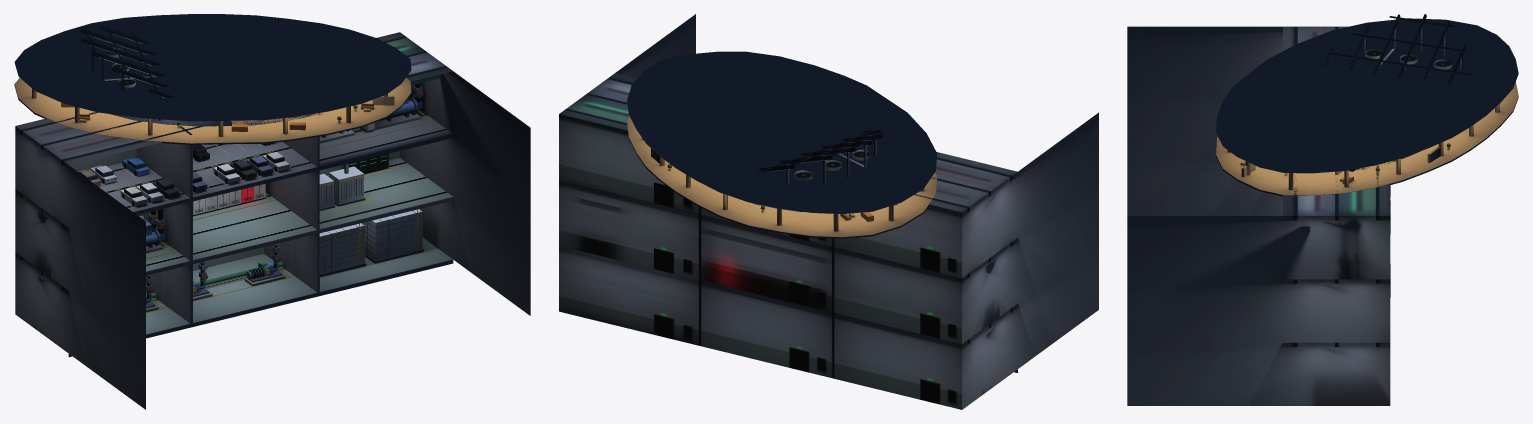
Rendered from tower_N.glb.
The picture shows the model from 3 angles, left to right: view 1: azimuth 30°, elevation 25°; view 2: azimuth 150°, elevation 25°; view 3: azimuth 270°, elevation 25°; orthographic projection. The views are drawn at different scales.
Parts seen in each view (by area): view 1: basement, lobby_v, basement_v, lobby, retail_v, roof_v, roof; view 2: basement, lobby_v, lobby, basement_v, retail_v, roof_v; view 3: basement, lobby_v, lobby, retail_v, roof_v, basement_v.
Part boxes in pixels (bbox=[...]): basement: bbox=[15, 32, 530, 409]; lobby_v: bbox=[14, 14, 411, 144]; basement_v: bbox=[21, 36, 453, 357]; lobby: bbox=[14, 78, 411, 143]; retail_v: bbox=[17, 23, 394, 131]; roof_v: bbox=[81, 26, 231, 126]; roof: bbox=[112, 114, 232, 126]; basement: bbox=[559, 14, 1098, 409]; lobby_v: bbox=[627, 51, 937, 238]; lobby: bbox=[627, 116, 937, 237]; basement_v: bbox=[565, 77, 1017, 402]; retail_v: bbox=[651, 86, 917, 221]; roof_v: bbox=[756, 129, 883, 211]; basement: bbox=[1127, 26, 1390, 405]; lobby_v: bbox=[1216, 18, 1518, 196]; lobby: bbox=[1216, 82, 1518, 195]; retail_v: bbox=[1238, 18, 1517, 177]; roof_v: bbox=[1323, 14, 1470, 85]; basement_v: bbox=[1294, 26, 1390, 344].
Bounding box in the file's own units: 83.31 × 50.98 × 72.84.
Materials: 18 (17 with a texture image).
